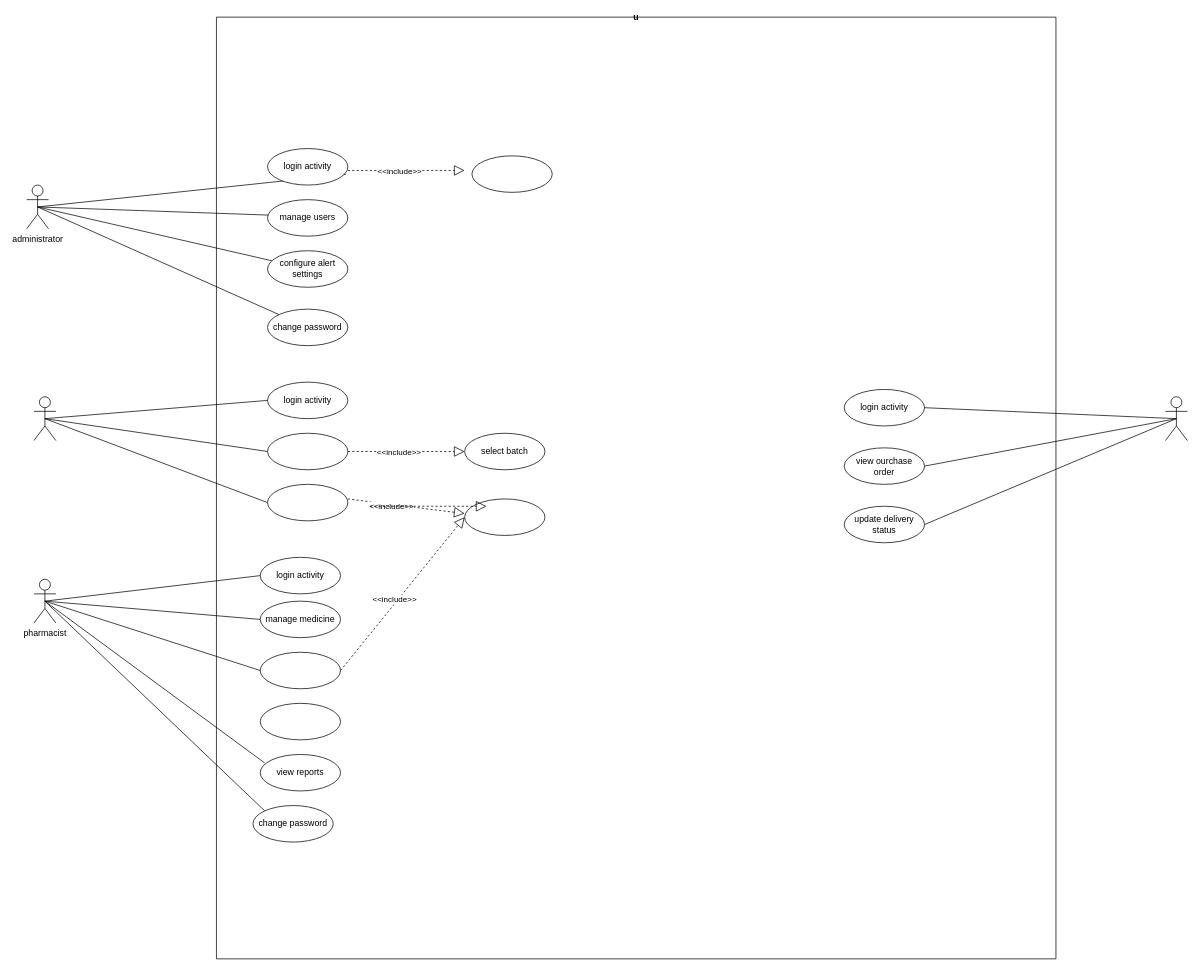
This 1200x972 diagram has some shape labels left out. The shapes that lost their labels are listed below. From the top down, each one's centre as x and y in pixels, then its label:
At (511,173): "registration".
At (44,418): "cashier".
At (1176,418): "Actor".
At (307,451): "search medicine".
At (307,502): "sell medicine".
At (504,516): "update stock".
At (300,670): "receive madicine batch".
At (300,721): "stock alerts".
